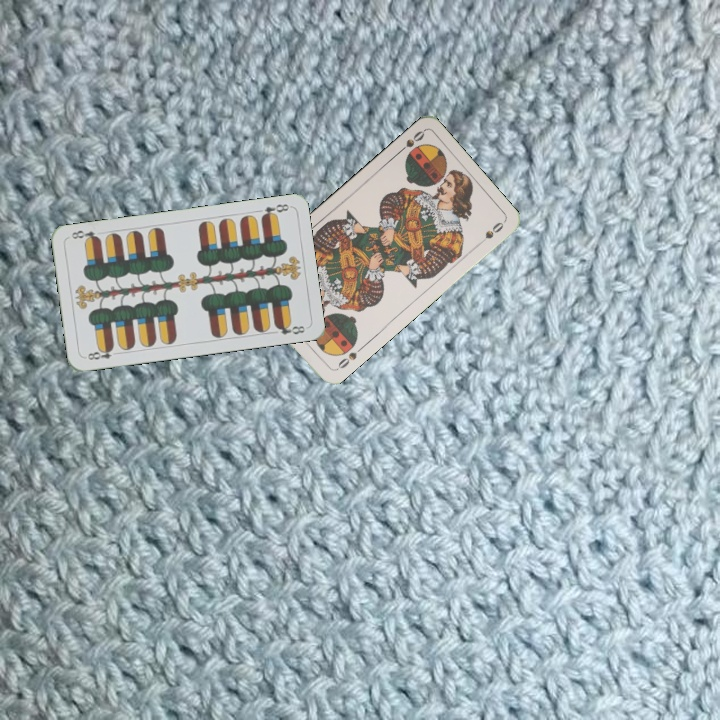E8: (257, 200, 292, 221), (81, 343, 116, 362)
SO: (393, 126, 427, 157), (331, 348, 360, 373)
